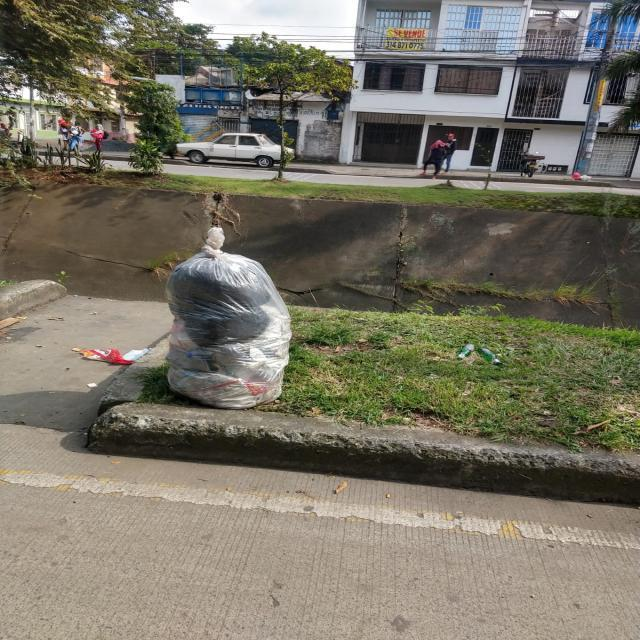Garbage_Bag: (157, 225, 302, 410)
